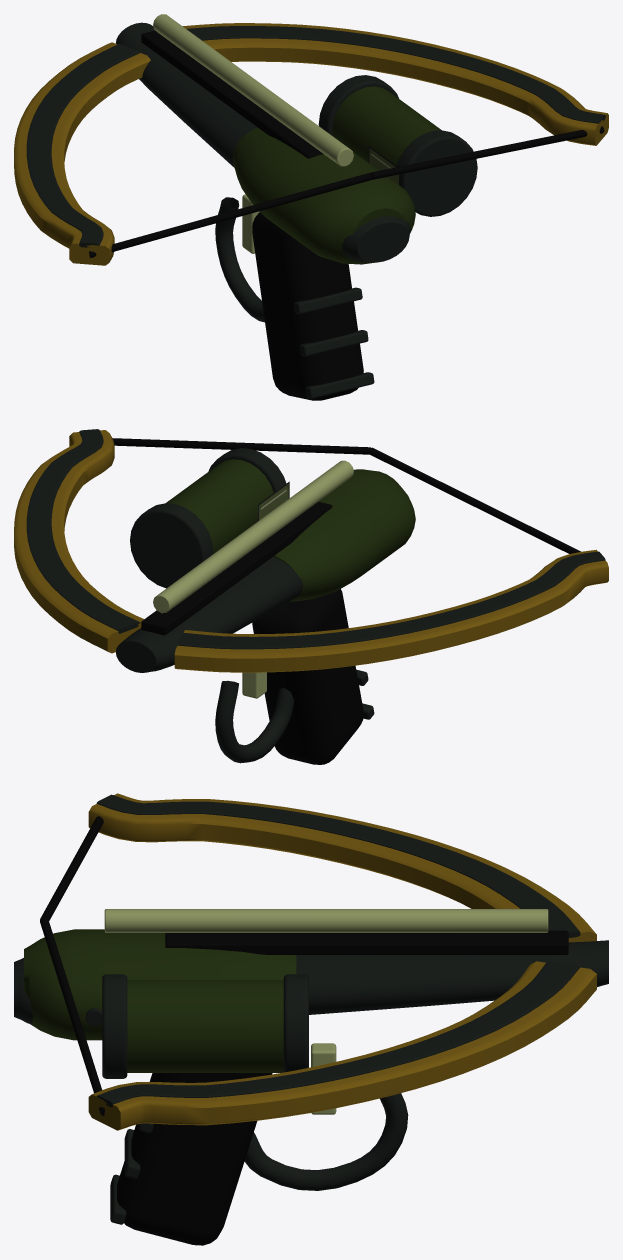
The model's file is poison.obj.
3 renders of one model, top to bottom at view 1: azimuth 30°, elevation 25°; view 2: azimuth 150°, elevation 25°; view 3: azimuth 270°, elevation 25°, orthographic. The views are drawn at different scales.
Visible parts, largest first — view 1: Angled_grip, Receiver, Swept_recurve_limb.001, Swept_recurve_limb, Tapered_rail, Limb_spring_inset.001, Limb_spring_inset, Poison_cartridge, Loaded_poison_bolt, Cartridge_collar, Rail_groove, Draw_cable (+7 smaller); view 2: Swept_recurve_limb, Receiver, Angled_grip, Swept_recurve_limb.001, Tapered_rail, Limb_spring_inset, Limb_spring_inset.001, Poison_cartridge, Cartridge_collar.001, Loaded_poison_bolt, Rail_groove, Curved_trigger_guard (+5 smaller); view 3: Swept_recurve_limb.001, Poison_cartridge, Swept_recurve_limb, Tapered_rail, Angled_grip, Receiver, Loaded_poison_bolt, Rail_groove, Limb_spring_inset.001, Limb_spring_inset, Curved_trigger_guard, Cartridge_collar (+4 smaller).
Part boxes in pixels (x1,y1,x2,y2): Angled_grip: (252, 212, 363, 400); Receiver: (232, 127, 415, 264); Swept_recurve_limb.001: (182, 23, 608, 145); Swept_recurve_limb: (14, 42, 150, 265); Tapered_rail: (116, 22, 410, 262); Limb_spring_inset.001: (186, 26, 605, 123); Limb_spring_inset: (26, 44, 140, 247); Poison_cartridge: (332, 86, 441, 165); Loaded_poison_bolt: (153, 14, 353, 166); Cartridge_collar: (396, 130, 477, 216); Rail_groove: (141, 30, 323, 158); Draw_cable: (89, 173, 371, 257); Swept_recurve_limb: (174, 549, 608, 672); Receiver: (273, 469, 415, 601); Angled_grip: (252, 589, 363, 764); Swept_recurve_limb.001: (14, 430, 143, 653); Tapered_rail: (116, 557, 303, 672); Limb_spring_inset: (177, 551, 605, 649); Limb_spring_inset.001: (26, 429, 140, 633); Poison_cartridge: (166, 459, 273, 553); Cartridge_collar.001: (130, 503, 213, 588); Loaded_poison_bolt: (153, 460, 353, 613); Rail_groove: (141, 501, 332, 635); Curved_trigger_guard: (215, 680, 294, 763); Swept_recurve_limb.001: (88, 961, 596, 1130); Poison_cartridge: (127, 980, 283, 1072); Swept_recurve_limb: (88, 793, 596, 942); Tapered_rail: (14, 940, 608, 1023); Angled_grip: (117, 1073, 272, 1245); Receiver: (24, 929, 296, 1040); Loaded_poison_bolt: (104, 909, 548, 932); Rail_groove: (165, 930, 568, 954); Limb_spring_inset.001: (96, 961, 580, 1107); Limb_spring_inset: (96, 794, 580, 937); Curved_trigger_guard: (244, 1093, 408, 1190); Cartridge_collar: (102, 974, 127, 1078).
Size of the model in its own units: 0.7434 by 0.3566 by 0.59.
7 materials, 1 textured.
